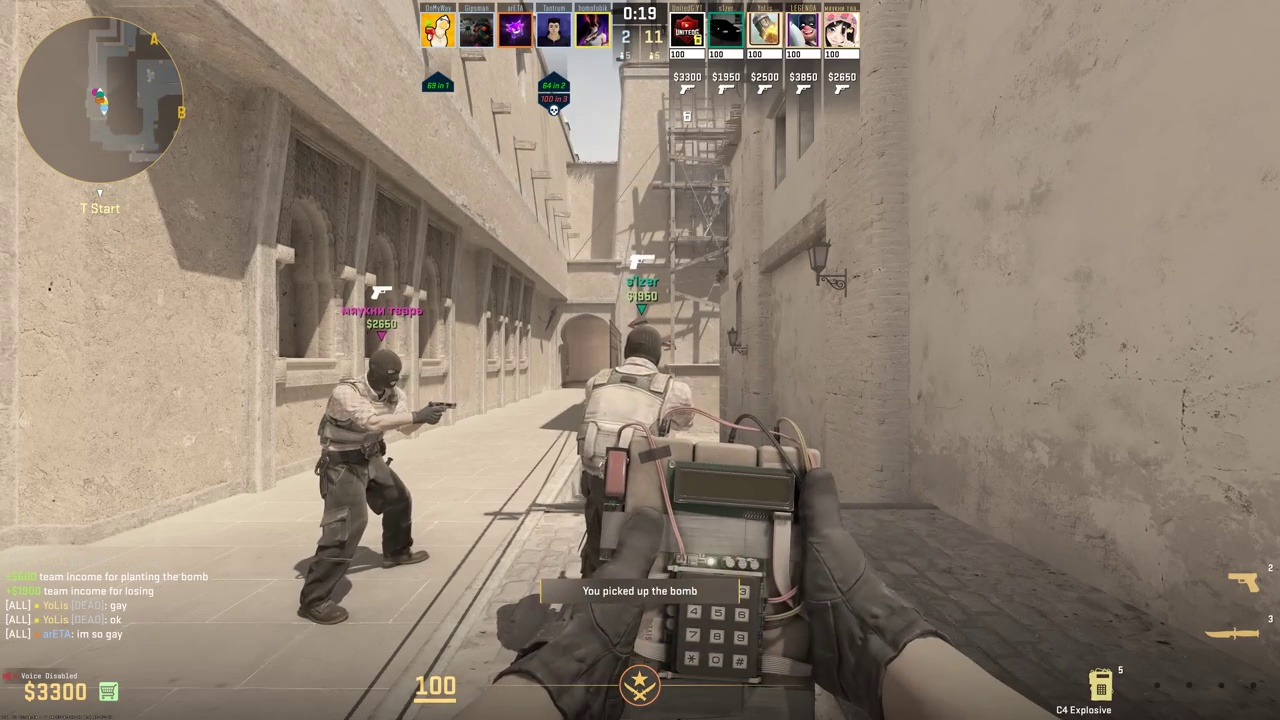Terrorist: (309, 350, 429, 624), (577, 324, 684, 568)
